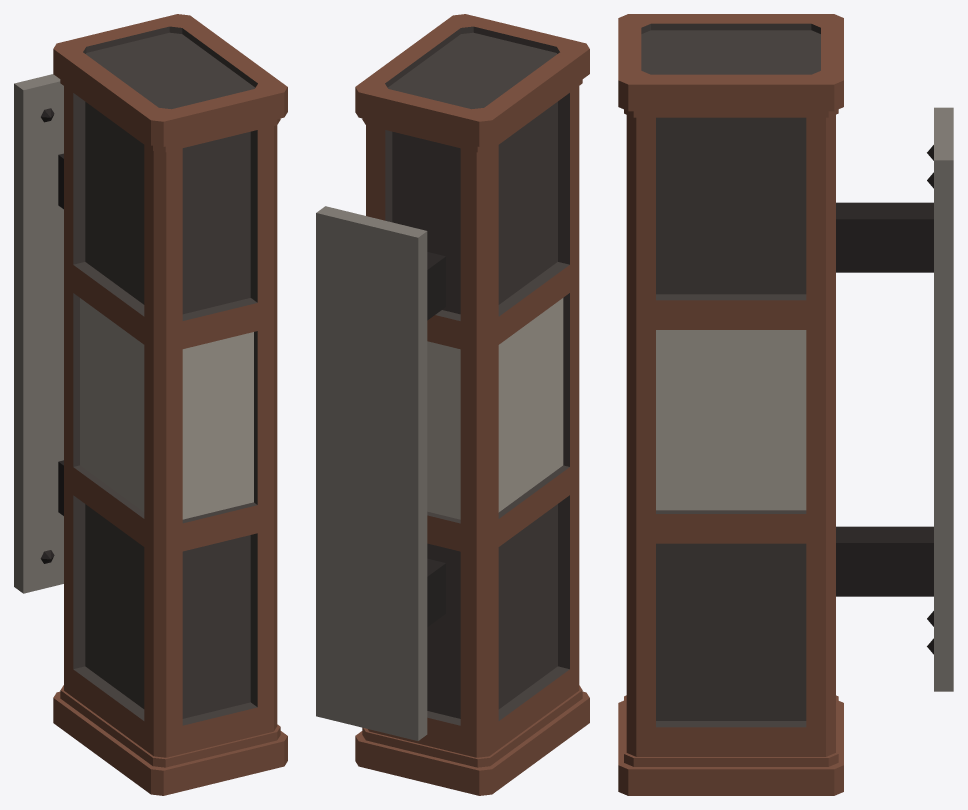
Rendered from projecting-shop-sign-aa1867.glb.
3 views of the same model, side by side, from view 1: azimuth 30°, elevation 25°; view 2: azimuth 150°, elevation 25°; view 3: azimuth 270°, elevation 25° (orthographic). The views are drawn at different scales.
Visible parts, largest first — view 1: sign-cabinet; view 2: sign-cabinet; view 3: sign-cabinet.
Boxes of the visible parts, x1=… form: sign-cabinet: x1=14, y1=14, x2=287, y2=795; sign-cabinet: x1=316, y1=14, x2=589, y2=795; sign-cabinet: x1=618, y1=14, x2=953, y2=795.
Size of the model in its own units: 0.51 by 2.4 by 1.02.
